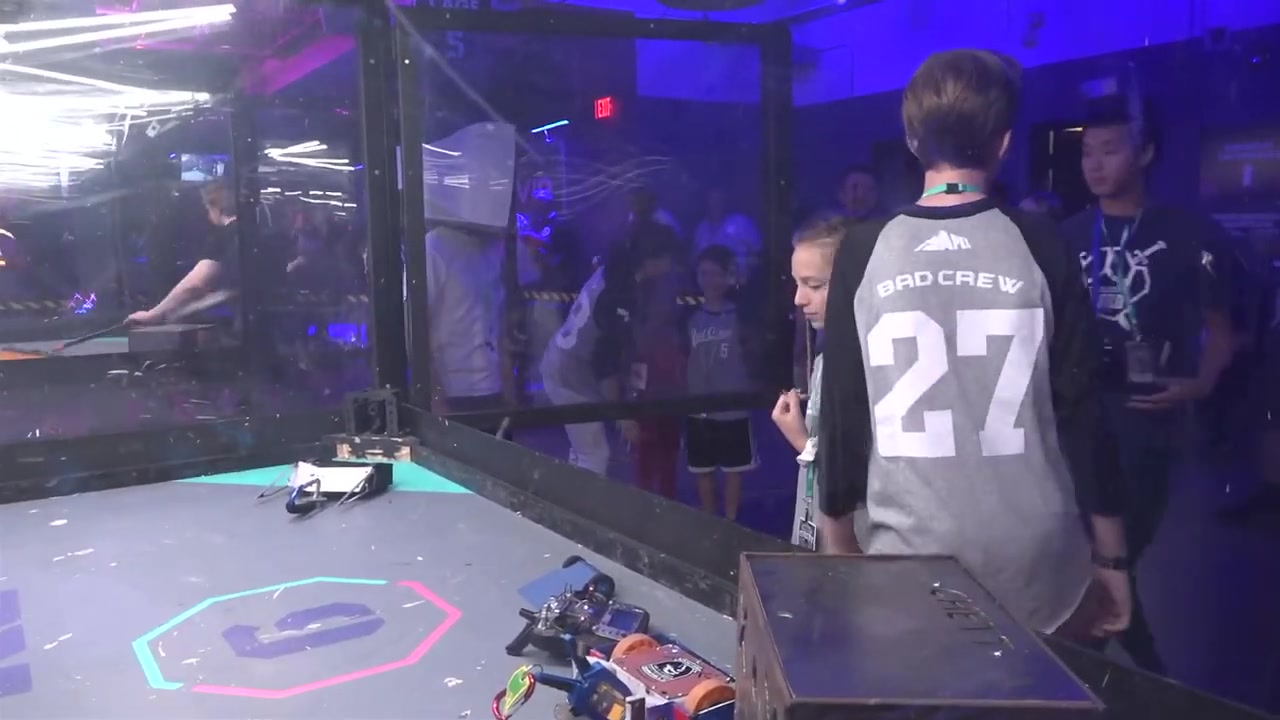combatbot: (490, 629, 734, 720), (258, 458, 396, 516)
housebot: (736, 550, 1109, 720)
minibot: (516, 555, 613, 611)
